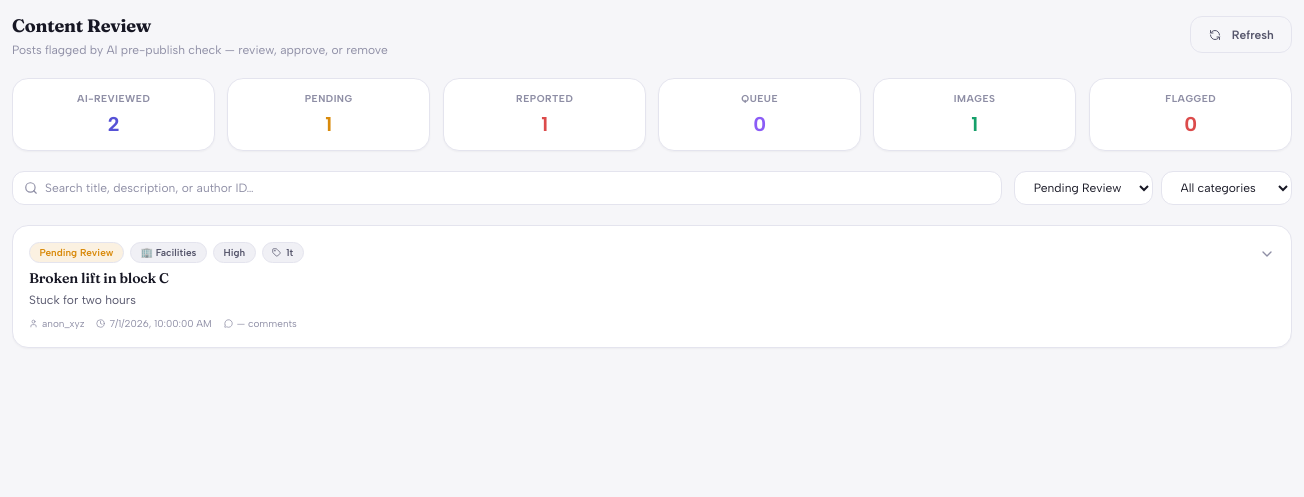
ContentReview — filters › shows the empty state when filters exclude everything
Expected: the heading "Broken lift in block C" is shown, 29,269 -> 169,287
Select "Solved" in the 1st dropdown at (1084, 188), box 1014,171 -> 1153,205
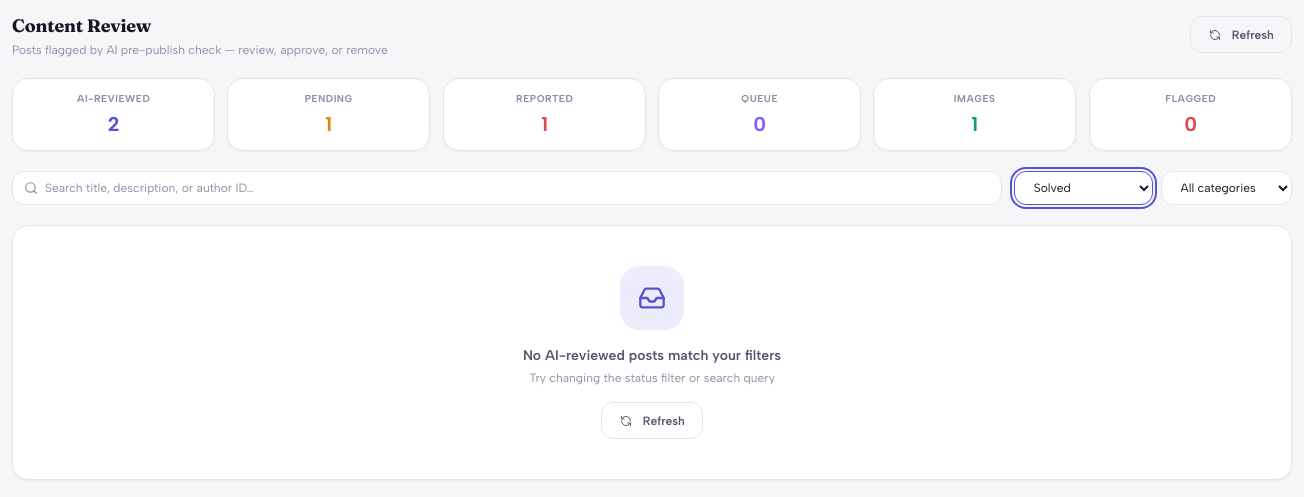
Expected: the text "No AI-reviewed posts match your filters" is shown, 523,347 -> 781,364
